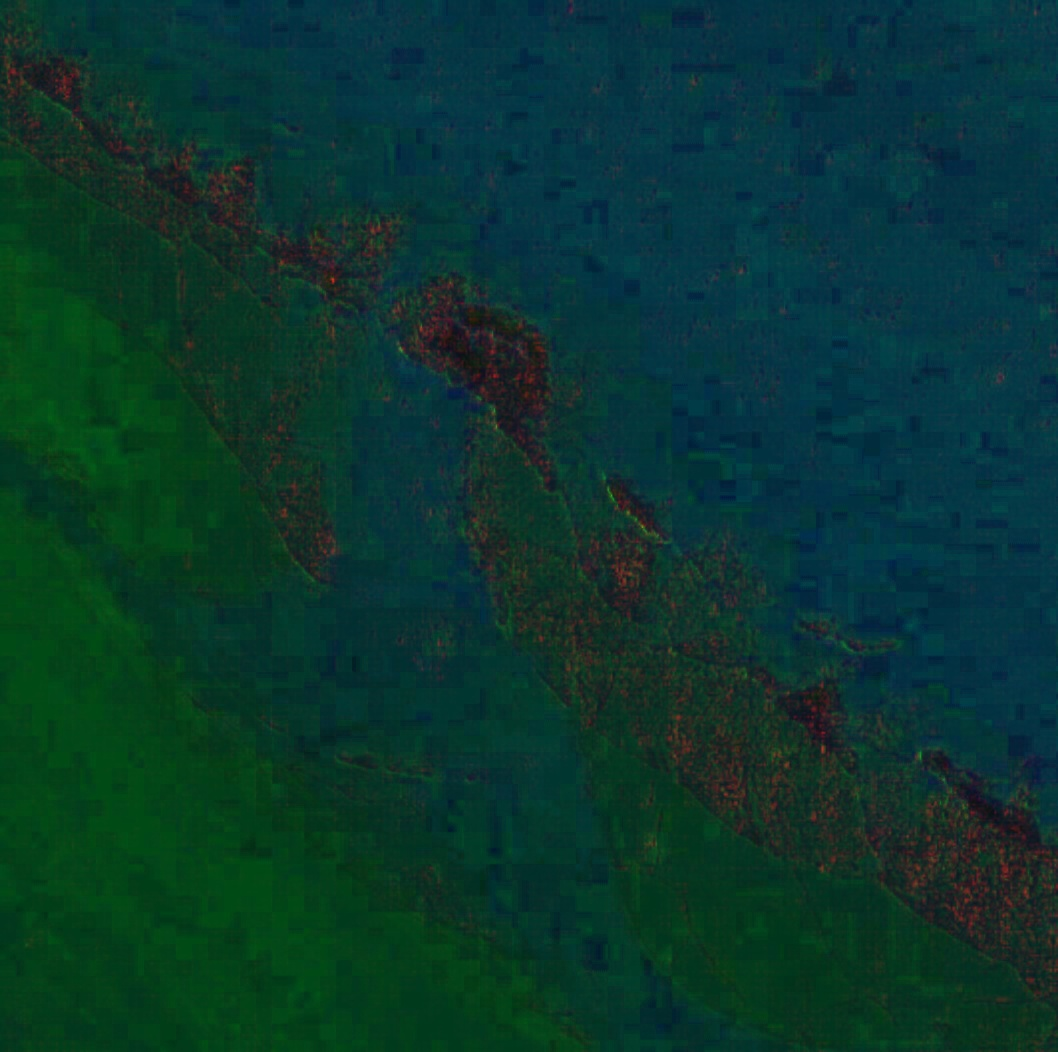rip_current: (247, 170, 601, 691)
